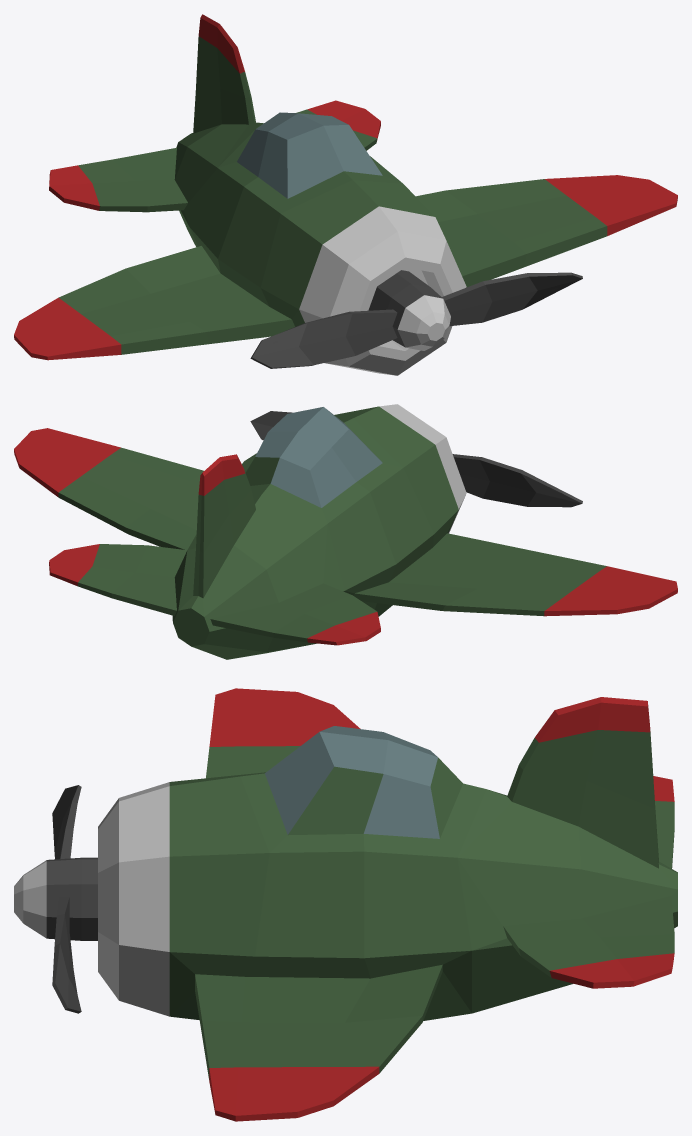
Rendered from airplane.glb.
3 views of the same model, one above another, from view 1: azimuth 30°, elevation 25°; view 2: azimuth 150°, elevation 25°; view 3: azimuth 270°, elevation 25° (orthographic). The views are drawn at different scales.
Parts seen in each view (by area): view 1: Cylinder, Cylinder.001; view 2: Cylinder, Cylinder.001; view 3: Cylinder, Cylinder.001.
Boxes of the visible parts, x1=… form: Cylinder: x1=14, y1=14, x2=677, y2=375; Cylinder.001: x1=250, y1=270, x2=582, y2=368; Cylinder: x1=14, y1=404, x2=677, y2=659; Cylinder.001: x1=250, y1=411, x2=582, y2=507; Cylinder: x1=98, y1=688, x2=677, y2=1121; Cylinder.001: x1=14, y1=785, x2=97, y2=1013.
Bounding box in the file's own units: 695 × 249 × 456.
